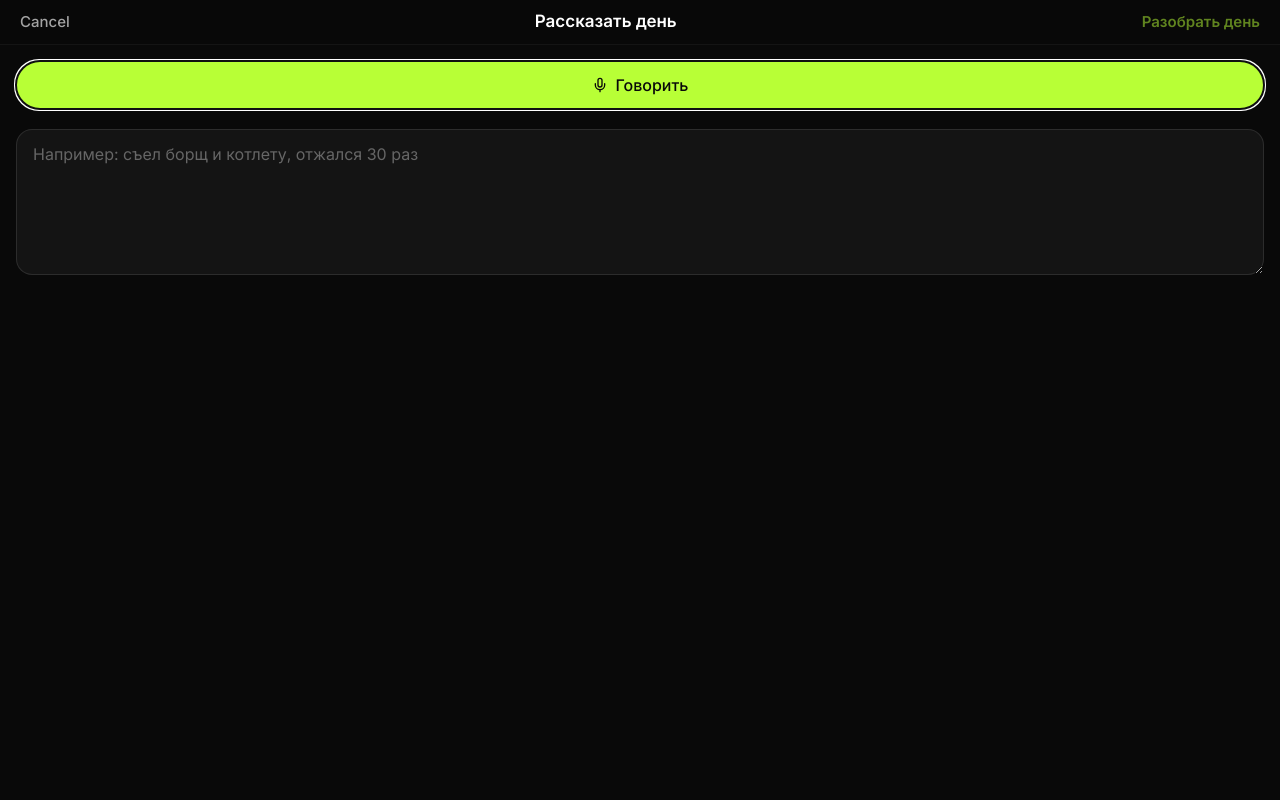
it: dictating a day › turns the microphone off on a second press
The image size is (1280, 800).
Click the button with aria-label "Начать диктовку": (640, 85) [16,61,1264,109]
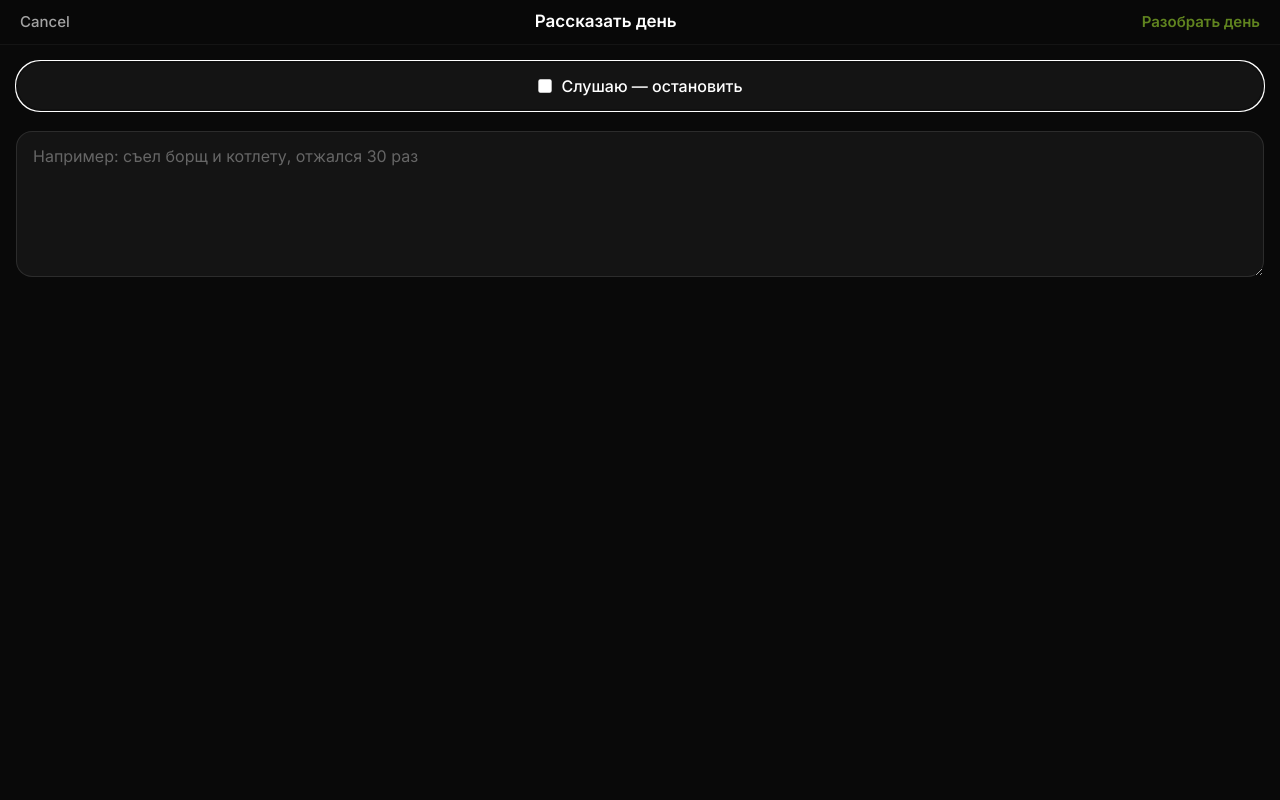
Click the button with aria-label "Остановить диктовку": (640, 86) [16,61,1264,111]
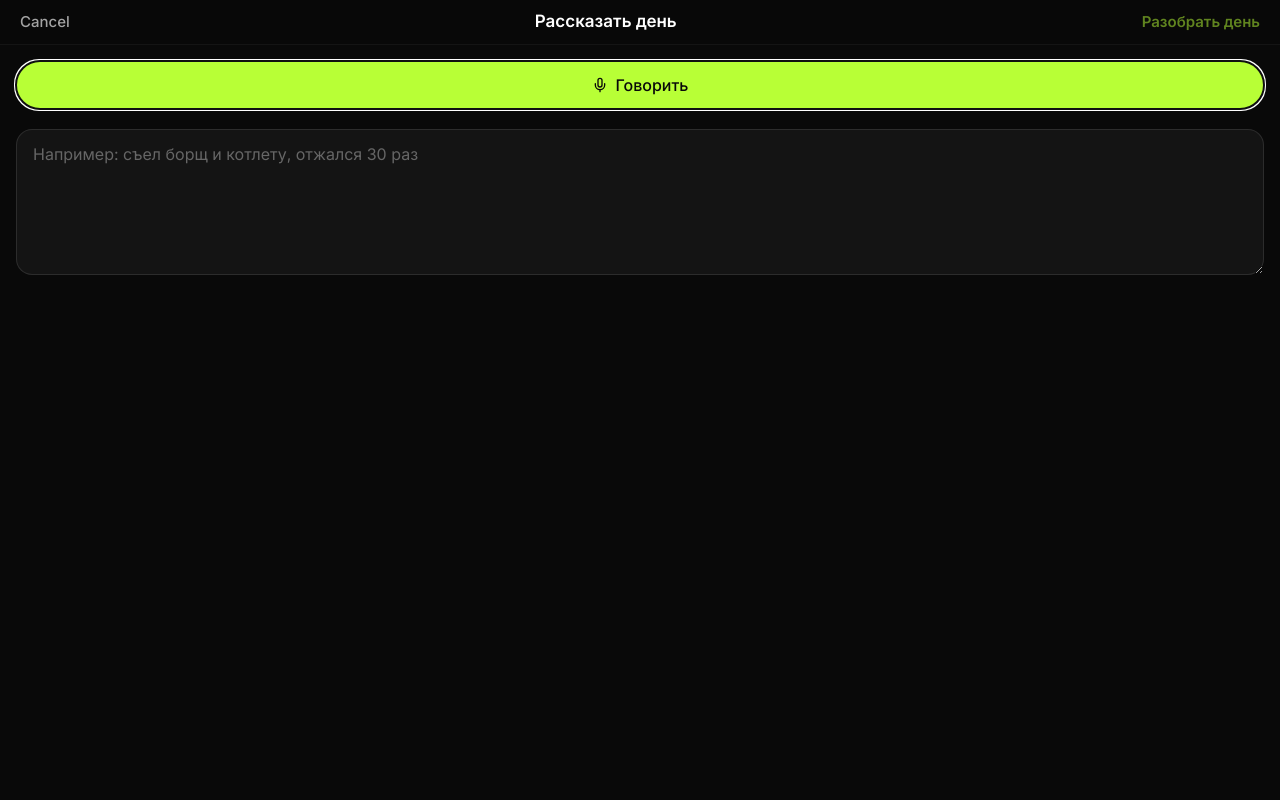
Expected: the button with aria-label "Начать диктовку" is shown, [16,61,1264,109]
